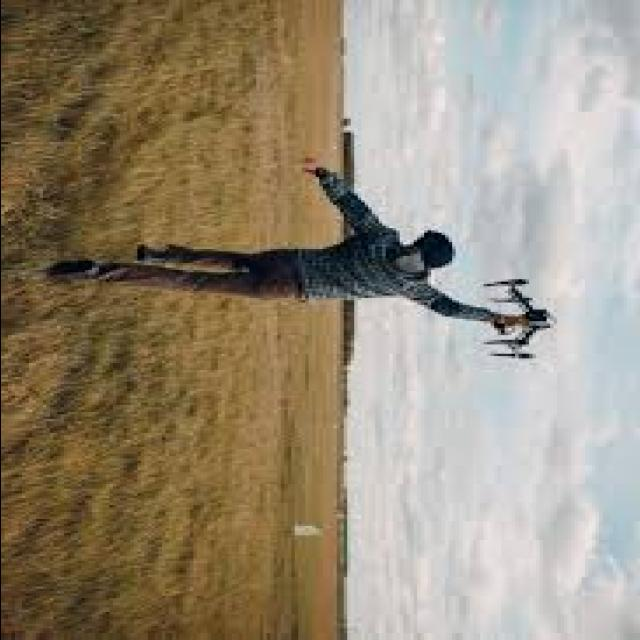drone: (471, 260, 576, 374)
